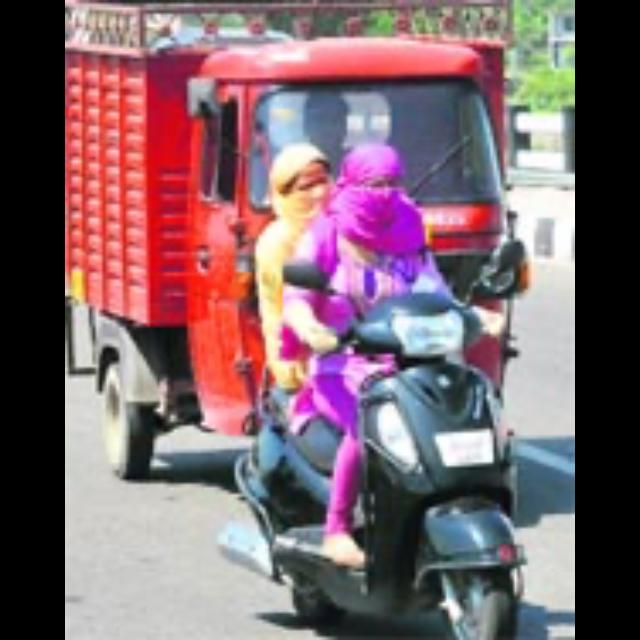Without Helmet: (327, 132, 409, 232)
